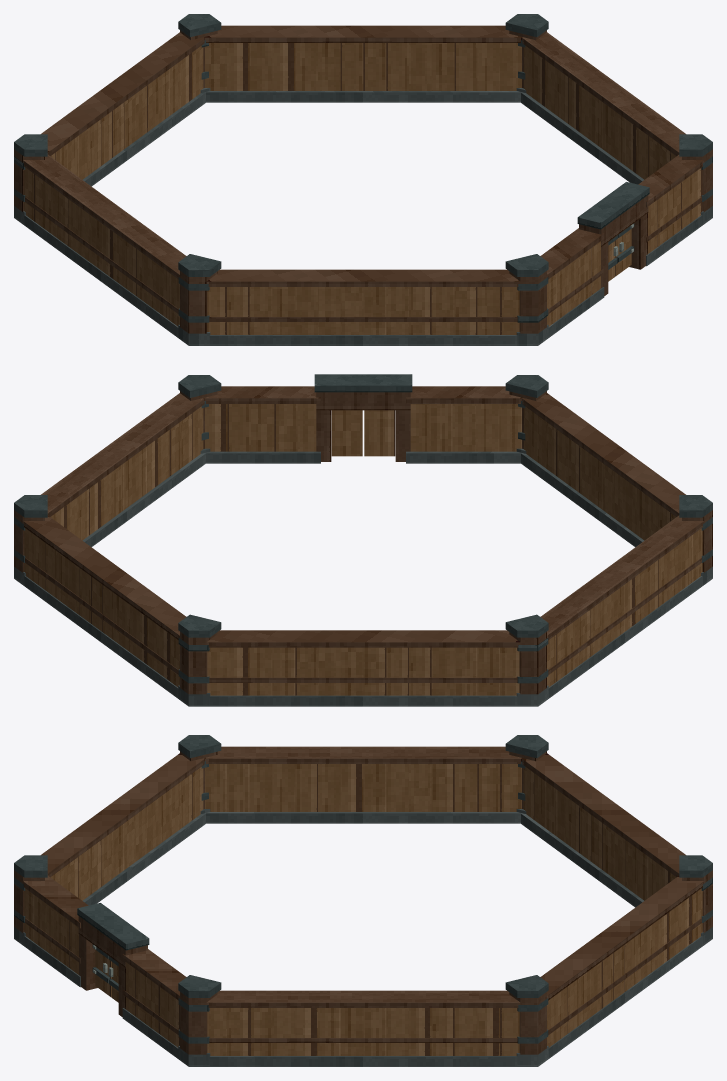
The model's file is orc_walls_level_1_hex_v1.glb.
3 views of the same model, one above another, from view 1: azimuth 30°, elevation 25°; view 2: azimuth 150°, elevation 25°; view 3: azimuth 270°, elevation 25° (orthographic).
Visible parts, largest first — view 1: Orc_Walls_Level_1_Hex_V1_Architecture; view 2: Orc_Walls_Level_1_Hex_V1_Architecture; view 3: Orc_Walls_Level_1_Hex_V1_Architecture.
Part boxes in pixels (<box>): Orc_Walls_Level_1_Hex_V1_Architecture: <box>14,14,712,345</box>; Orc_Walls_Level_1_Hex_V1_Architecture: <box>14,374,712,706</box>; Orc_Walls_Level_1_Hex_V1_Architecture: <box>14,735,712,1066</box>.
Size of the model in its own units: 1.71 by 0.238 by 1.97.
Materials: 1 (1 with a texture image).
